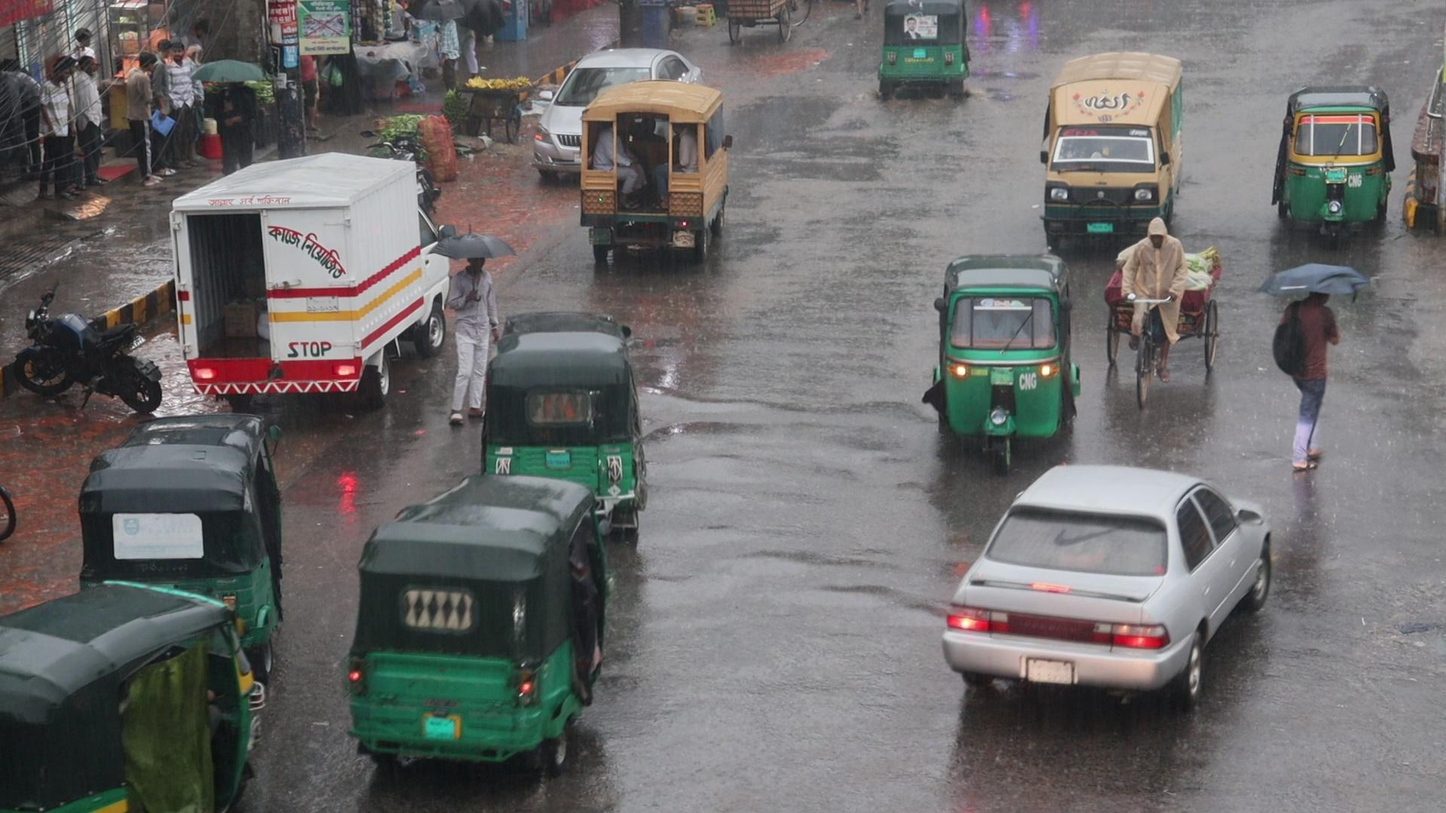Car: (941, 456, 1272, 713)
Truck: (576, 76, 735, 265), (1037, 48, 1184, 224)
